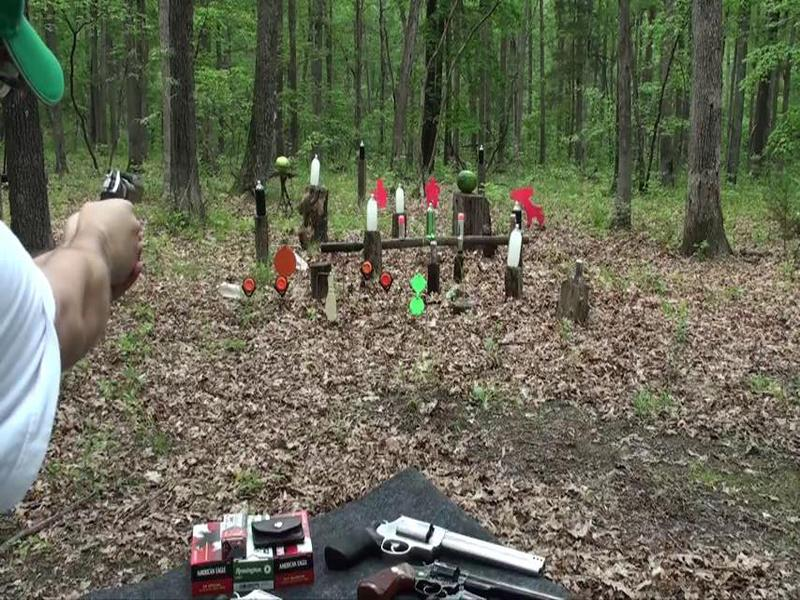Revolver: (91, 162, 163, 230)
